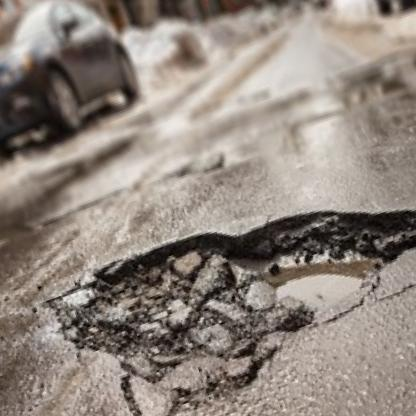pothole: (36, 145, 416, 416)
